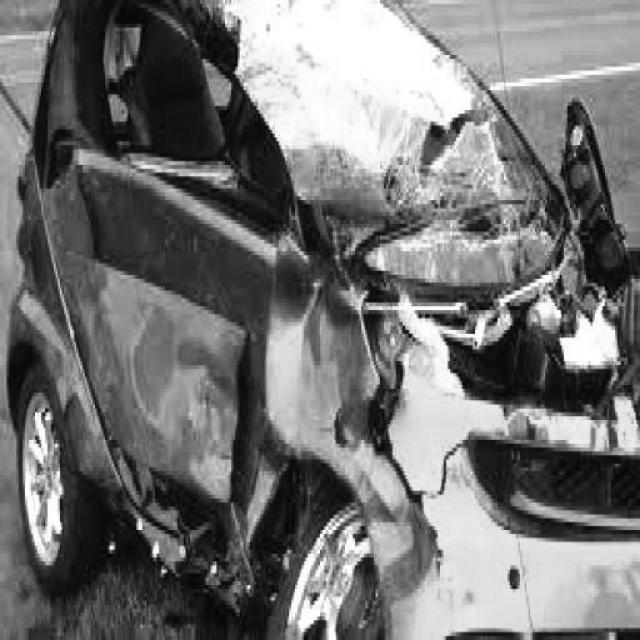car damage: (29, 3, 640, 639)
